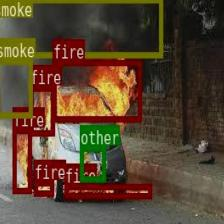fire: (52, 59, 141, 121), (12, 126, 31, 192), (29, 85, 54, 134), (64, 183, 151, 197), (33, 180, 53, 194)
smoke: (0, 0, 162, 57), (0, 58, 32, 117)
